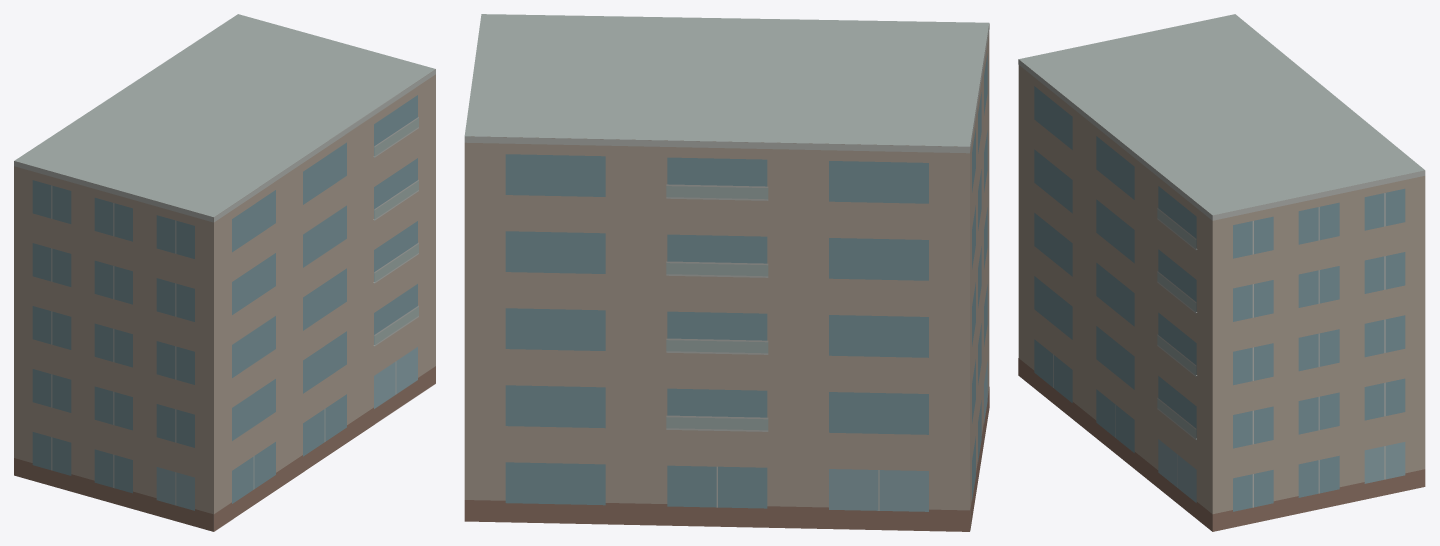
File: survey-upis-32904248.glb
3 renders of one model, left to right at view 1: azimuth 30°, elevation 25°; view 2: azimuth 150°, elevation 25°; view 3: azimuth 270°, elevation 25°, orthographic. The views are drawn at different scales.
Parts seen in each view (by area): view 1: survey-upis-32904248.tmp; view 2: survey-upis-32904248.tmp; view 3: survey-upis-32904248.tmp.
Boxes of the visible parts, bbox=[...] form: survey-upis-32904248.tmp: bbox=[14, 14, 435, 531]; survey-upis-32904248.tmp: bbox=[464, 14, 989, 531]; survey-upis-32904248.tmp: bbox=[1018, 14, 1425, 531].
Bounding box in the file's own units: 19.67 × 14.4 × 16.79.
